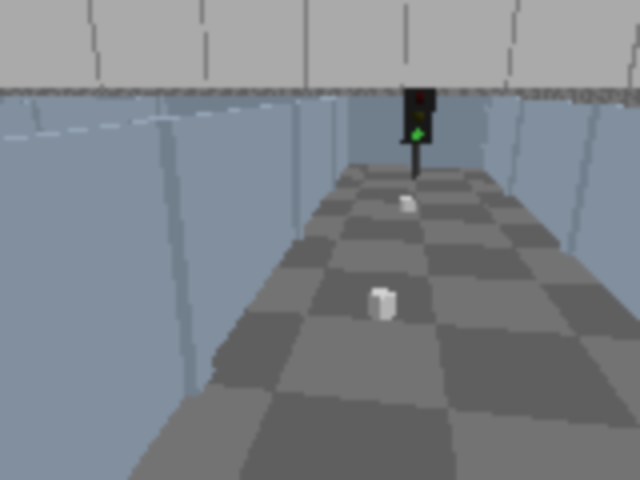puck: (366, 287, 397, 323), (399, 197, 416, 213)
